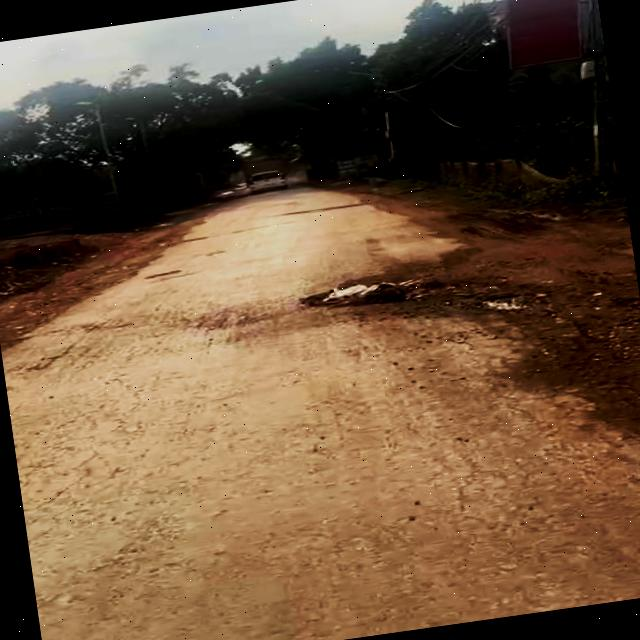pothole: (298, 270, 455, 321)
